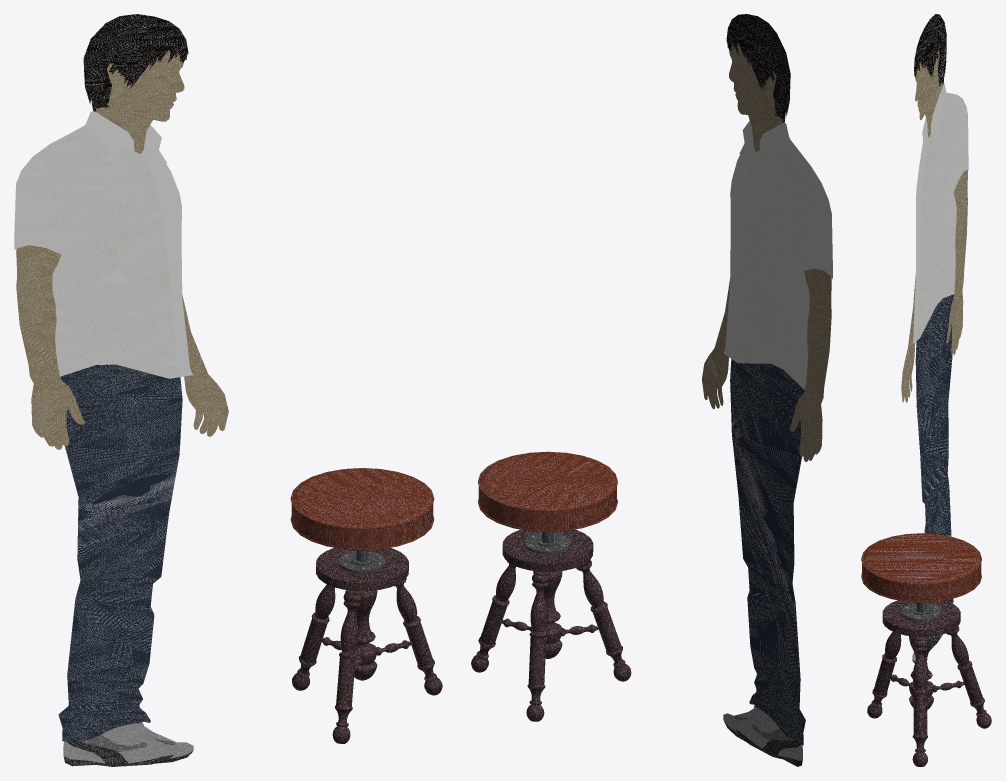
The model's file is stool.dae.
The picture shows the model from 3 angles, left to right: view 1: azimuth 30°, elevation 25°; view 2: azimuth 150°, elevation 25°; view 3: azimuth 270°, elevation 25°; orthographic projection. The views are drawn at different scales.
Visible parts, largest first — view 1: Sang (×10), group_6 (×3), piano_stool (×2), group_4, group_2, group_0; view 2: Sang (×10), group_6 (×3), piano_stool (×3), group_0, group_4, group_2; view 3: Sang (×8), group_6 (×4), piano_stool (×3), group_2, group_0, group_4.
Boxes of the visible parts, <box> form: Sang (×10): <box>14,14,228,766</box>; group_6 (×3): <box>290,468,434,548</box>; piano_stool (×2): <box>316,547,408,668</box>; group_4: <box>332,590,361,743</box>; group_2: <box>394,578,442,695</box>; group_0: <box>292,584,335,690</box>; Sang (×10): <box>702,14,832,766</box>; group_6 (×3): <box>478,451,617,530</box>; piano_stool (×3): <box>502,529,593,647</box>; group_0: <box>526,571,549,721</box>; group_4: <box>576,559,631,681</box>; group_2: <box>471,561,516,672</box>; Sang (×8): <box>901,14,968,602</box>; group_6 (×4): <box>861,533,981,602</box>; piano_stool (×3): <box>882,600,960,700</box>; group_2: <box>912,636,927,766</box>; group_0: <box>946,626,991,728</box>; group_4: <box>867,631,901,718</box>.
Bounding box in the file's own units: 38.43 × 12.97 × 69.24.
